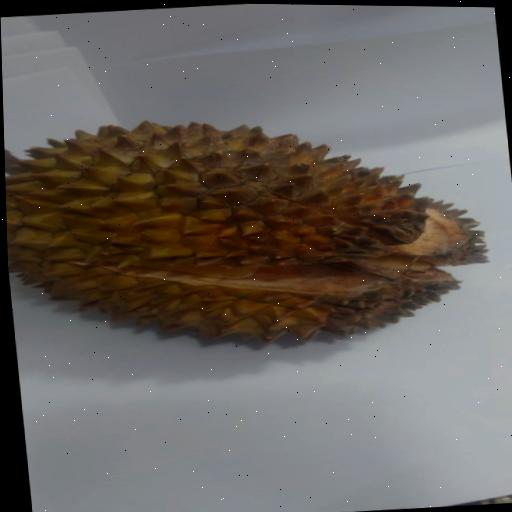rot: (2, 69, 512, 380)
